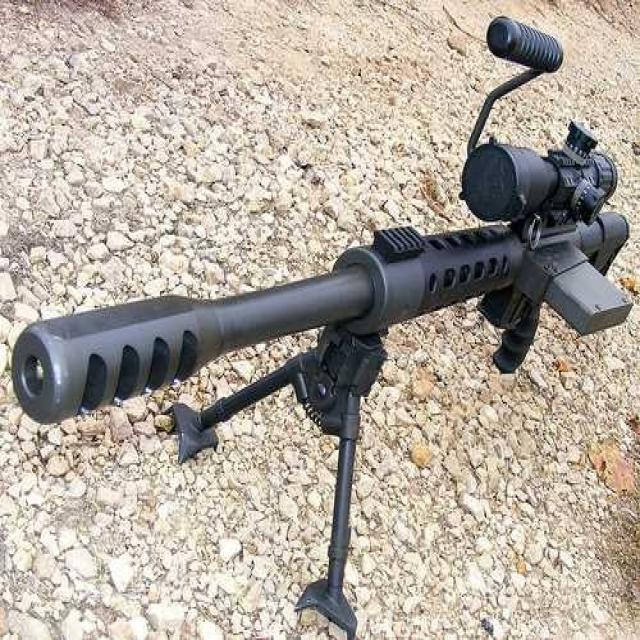RifleTel: (8, 114, 635, 457)
